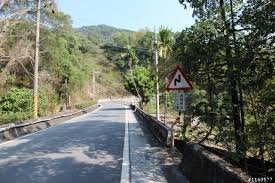Double_bend_right: (165, 66, 194, 90)
